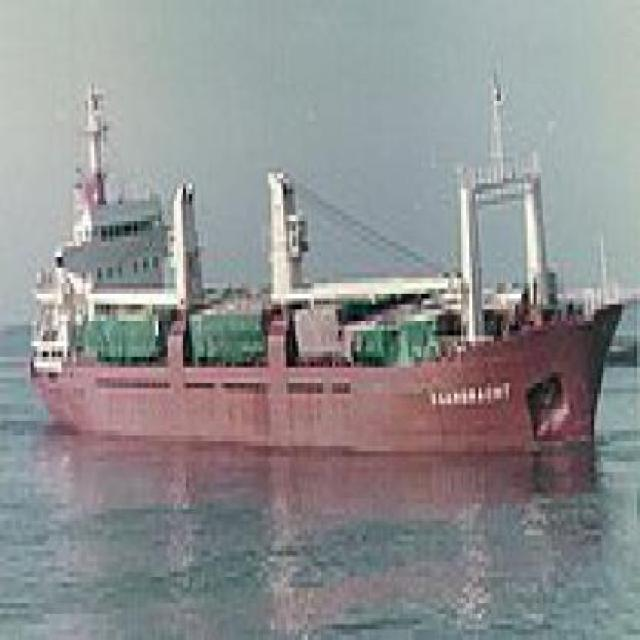container: (19, 38, 638, 484)
